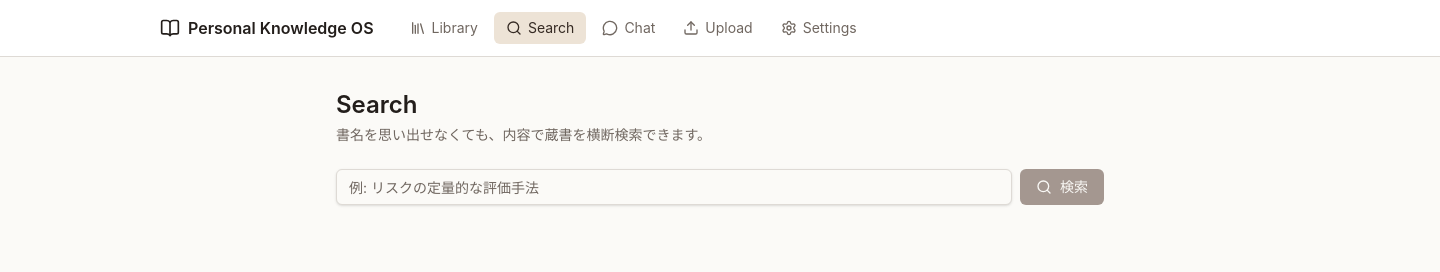
Test: SearchPage › 結果が無い場合はその旨を表示する
Step 1. Type "存在しない内容" into the field named "検索キーワード" → (674, 187), box [336,169,1012,205]
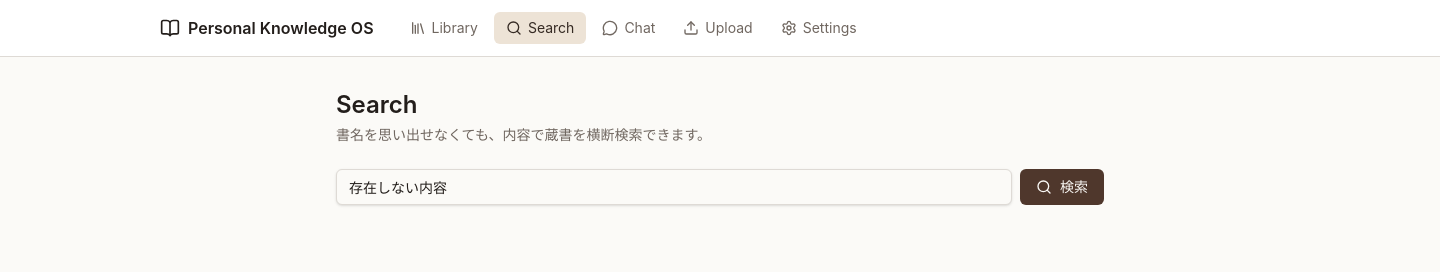
Step 2. Click the button "検索" → (1062, 187), box [1020,169,1104,205]
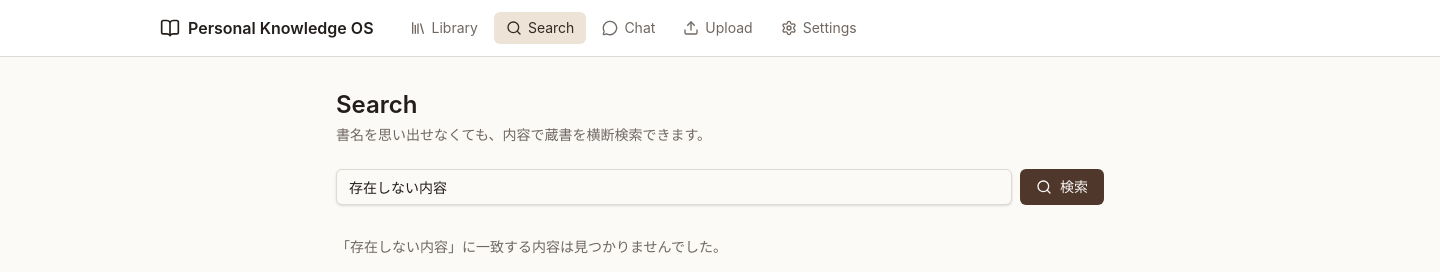
Expected: the text "「存在しない内容」に一致する内容は見つかりませんでした。" is shown, [336,238,727,255]
